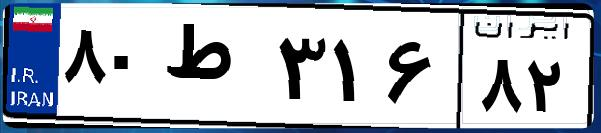0: (110, 28, 158, 98)
1: (330, 28, 385, 110)
2: (525, 38, 570, 115)
3: (270, 28, 330, 110)
6: (385, 28, 445, 110)
8: (57, 26, 110, 100), (475, 38, 525, 113)
ط: (158, 20, 270, 120)
